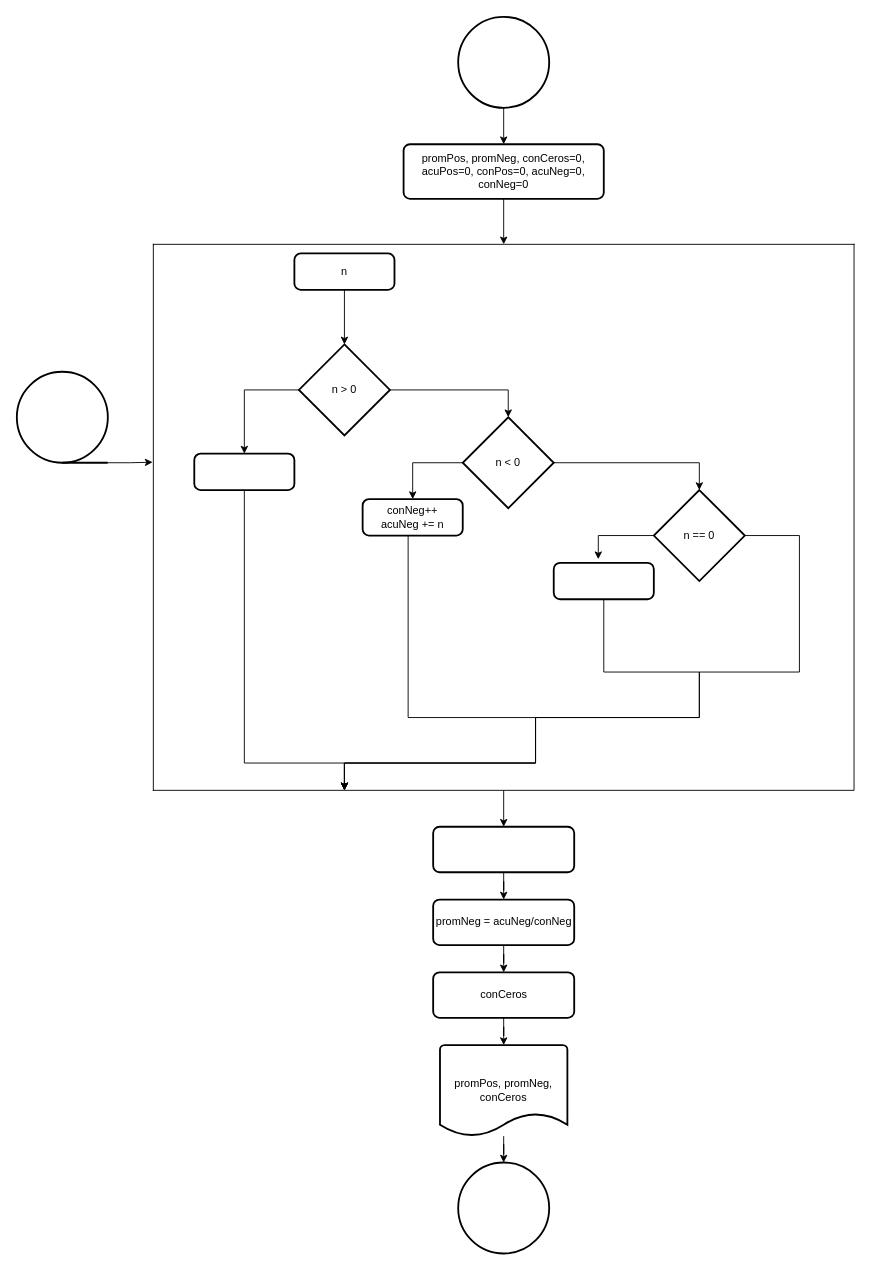
Image size: 870x1269. Some labels were removed from this diagram. The box of each missing label's shape, as (x1, y1, x2, y2) in pixels:
conCeros++: (552, 561, 654, 600)
conPos++ acuPos += n: (193, 452, 295, 490)
n == 999999: (15, 370, 108, 463)
promPos = acuPos/conPos: (432, 825, 575, 873)
